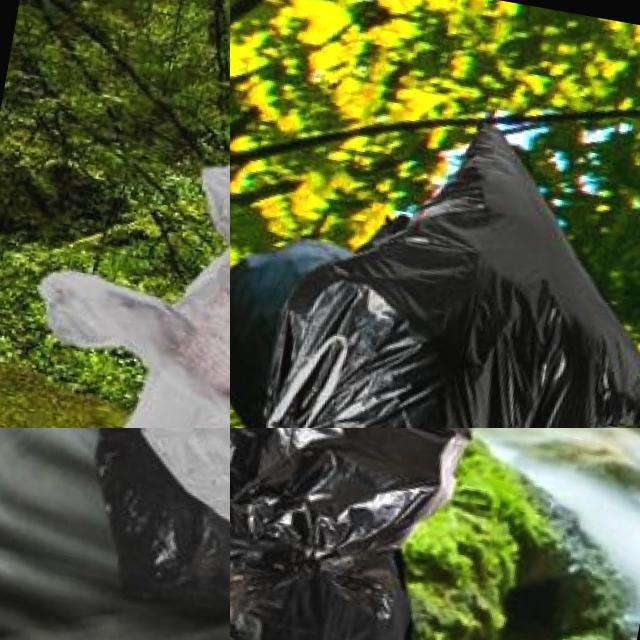waste: (251, 99, 640, 428), (25, 131, 230, 428), (230, 428, 447, 640), (65, 152, 230, 428), (230, 428, 538, 562), (82, 428, 230, 640), (135, 428, 230, 566)
